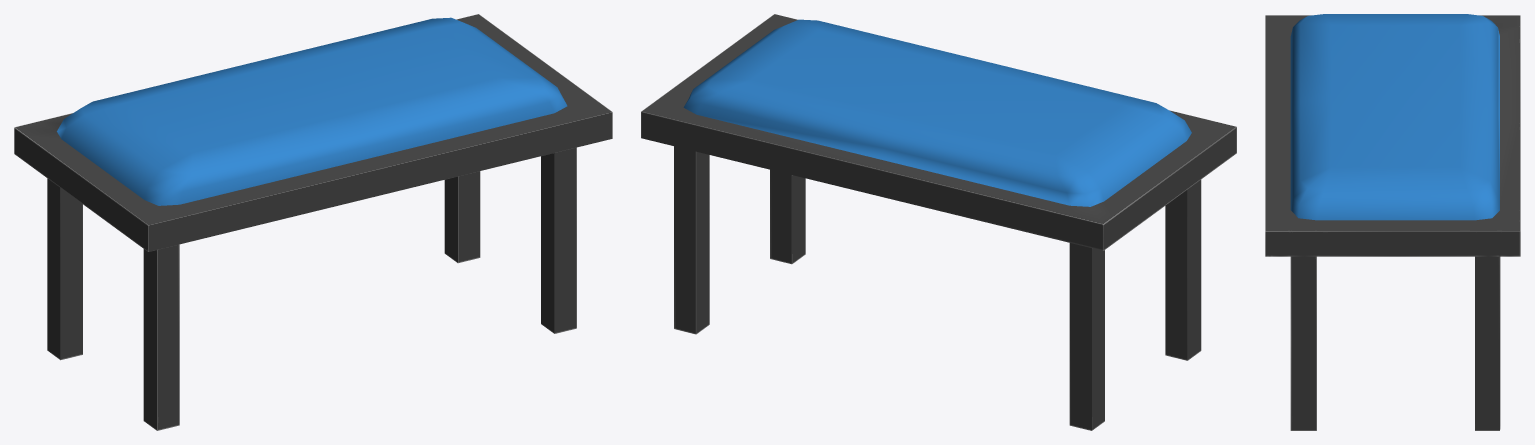
File: X2BoxCheir.fbx
3 views of the same model, side by side, from view 1: azimuth 30°, elevation 25°; view 2: azimuth 150°, elevation 25°; view 3: azimuth 270°, elevation 25° (orthographic). The views are drawn at different scales.
Visible parts, largest first — view 1: y2isu; view 2: y2isu; view 3: y2isu.
Part boxes in pixels (left/top/right/bottom): y2isu: left=14, top=14, right=612, bottom=430; y2isu: left=641, top=14, right=1236, bottom=430; y2isu: left=1265, top=14, right=1520, bottom=430.
Size of the model in its own units: 2 by 1.02 by 1.
1 material, 1 textured.
